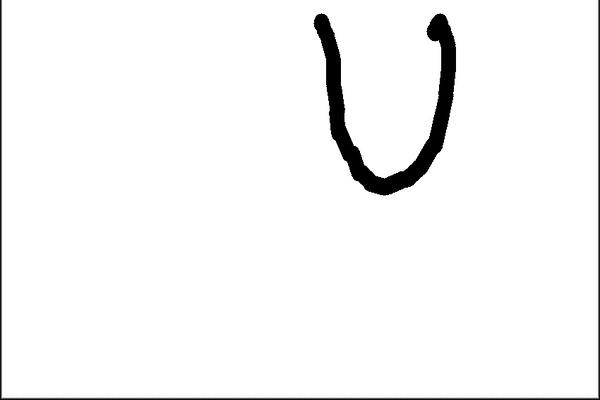U: (301, 5, 460, 203)
